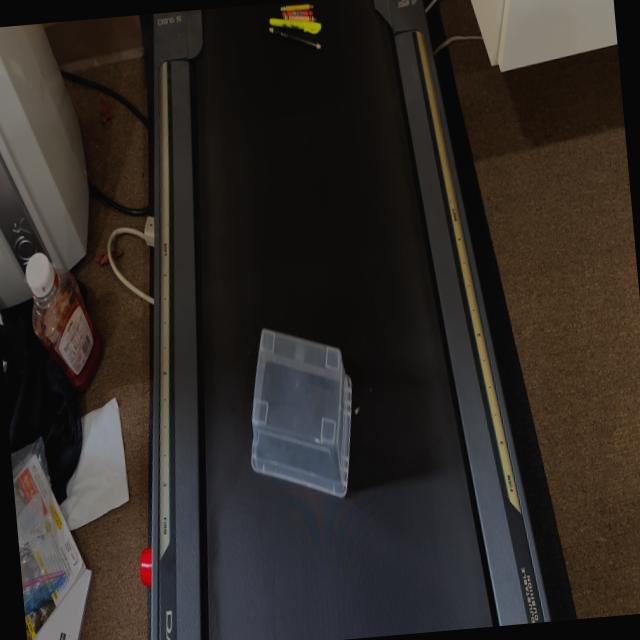Recycle: (238, 317, 362, 508)
Trash: (264, 2, 324, 54)
